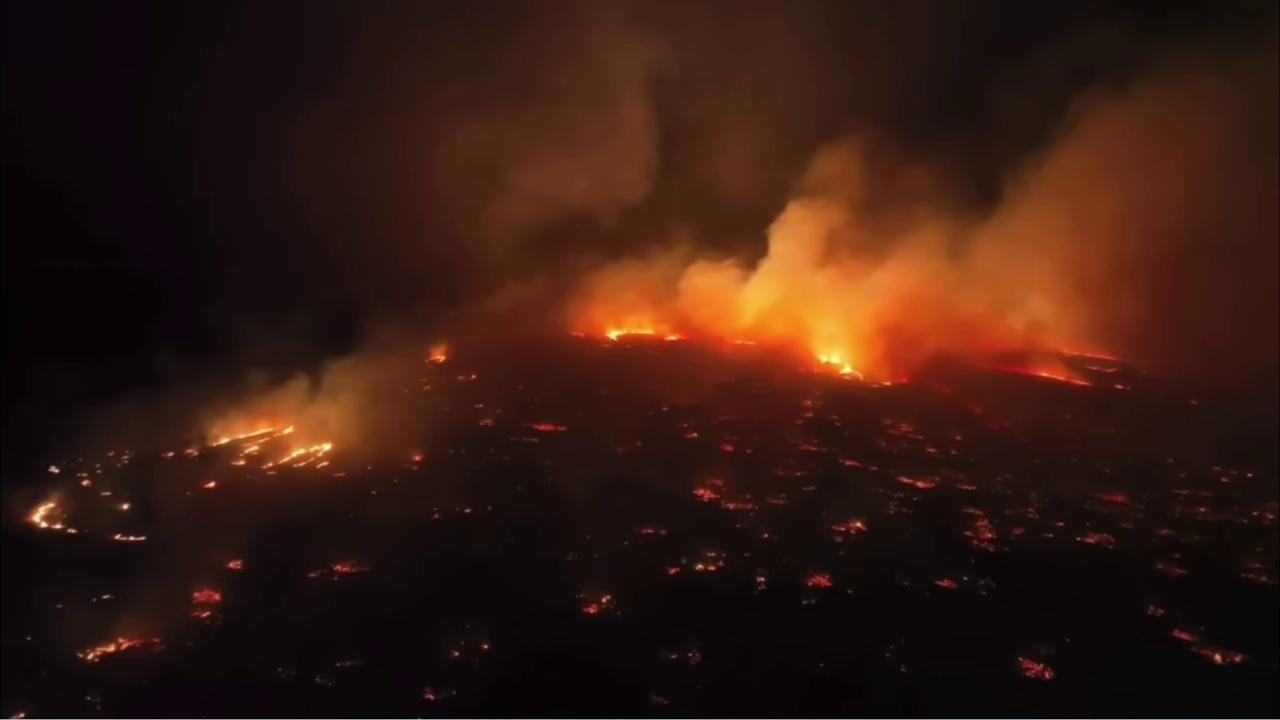fire: (163, 413, 334, 472), (835, 456, 939, 490), (1170, 627, 1252, 667), (964, 362, 1092, 387), (72, 633, 163, 667), (692, 476, 760, 514), (955, 503, 1001, 555), (878, 415, 939, 454), (24, 502, 82, 537), (307, 553, 373, 580), (188, 588, 224, 629), (817, 354, 866, 382), (578, 588, 623, 618), (828, 514, 871, 544), (1148, 552, 1192, 581), (1238, 553, 1277, 584), (602, 323, 659, 344), (1076, 526, 1119, 553), (1016, 655, 1055, 683), (1084, 487, 1133, 509), (691, 547, 728, 576), (792, 398, 818, 425), (1063, 349, 1120, 361), (805, 569, 834, 592), (679, 419, 704, 441), (772, 465, 814, 478), (798, 438, 830, 454), (111, 531, 147, 544), (931, 577, 960, 593), (764, 491, 793, 507), (518, 421, 569, 430), (422, 353, 448, 368), (638, 524, 670, 536), (733, 337, 761, 350), (1184, 505, 1214, 517), (223, 556, 245, 571), (752, 573, 769, 592), (1153, 526, 1172, 543), (952, 481, 981, 491), (1008, 525, 1026, 541), (1250, 509, 1276, 520), (662, 332, 684, 345), (200, 479, 220, 493), (649, 692, 669, 706), (662, 564, 682, 577), (718, 441, 736, 455), (872, 378, 894, 389), (1146, 607, 1166, 619), (477, 417, 498, 428), (1084, 366, 1121, 372), (420, 691, 439, 702), (9, 708, 27, 719), (570, 330, 587, 340), (1217, 472, 1232, 483), (117, 501, 133, 511), (896, 375, 911, 385), (952, 431, 964, 443), (1187, 398, 1202, 407), (480, 642, 492, 653), (411, 452, 423, 463), (48, 464, 61, 474), (1114, 384, 1134, 390), (79, 478, 92, 486), (469, 371, 479, 381), (99, 490, 113, 496), (1246, 471, 1254, 479)
smoke: (1, 0, 1280, 686)
